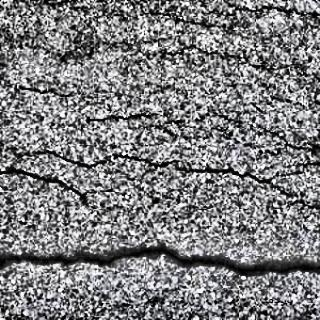crack: (0, 143, 320, 200), (0, 236, 320, 289), (150, 34, 290, 66), (238, 82, 320, 116), (86, 108, 198, 132), (41, 1, 130, 25), (226, 0, 320, 20), (11, 76, 78, 100)
